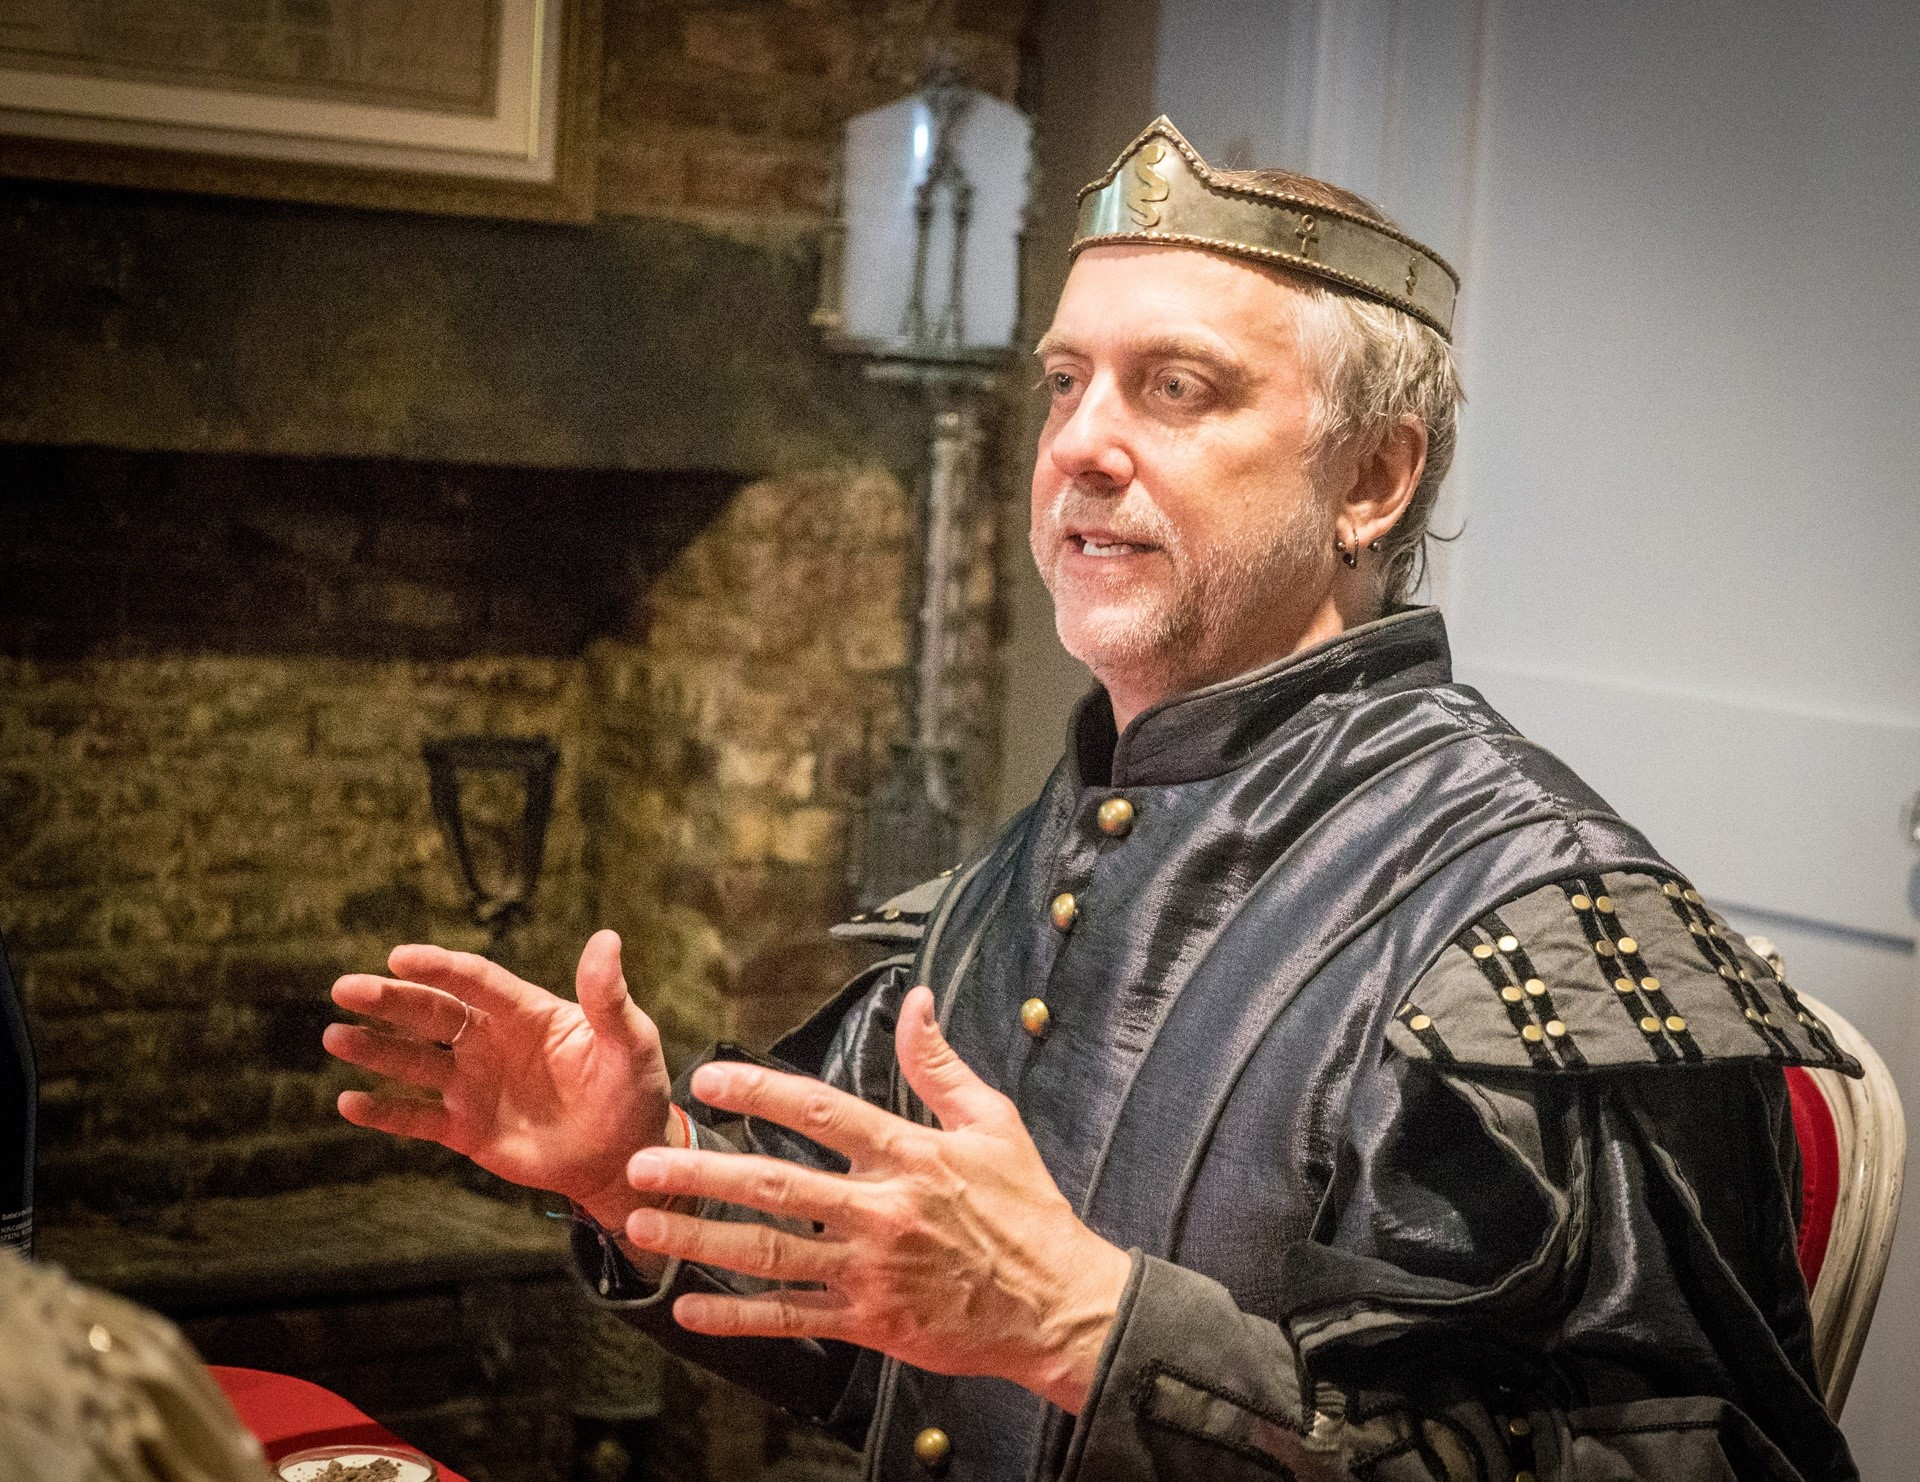face_no_mask: (999, 201, 1422, 681)
